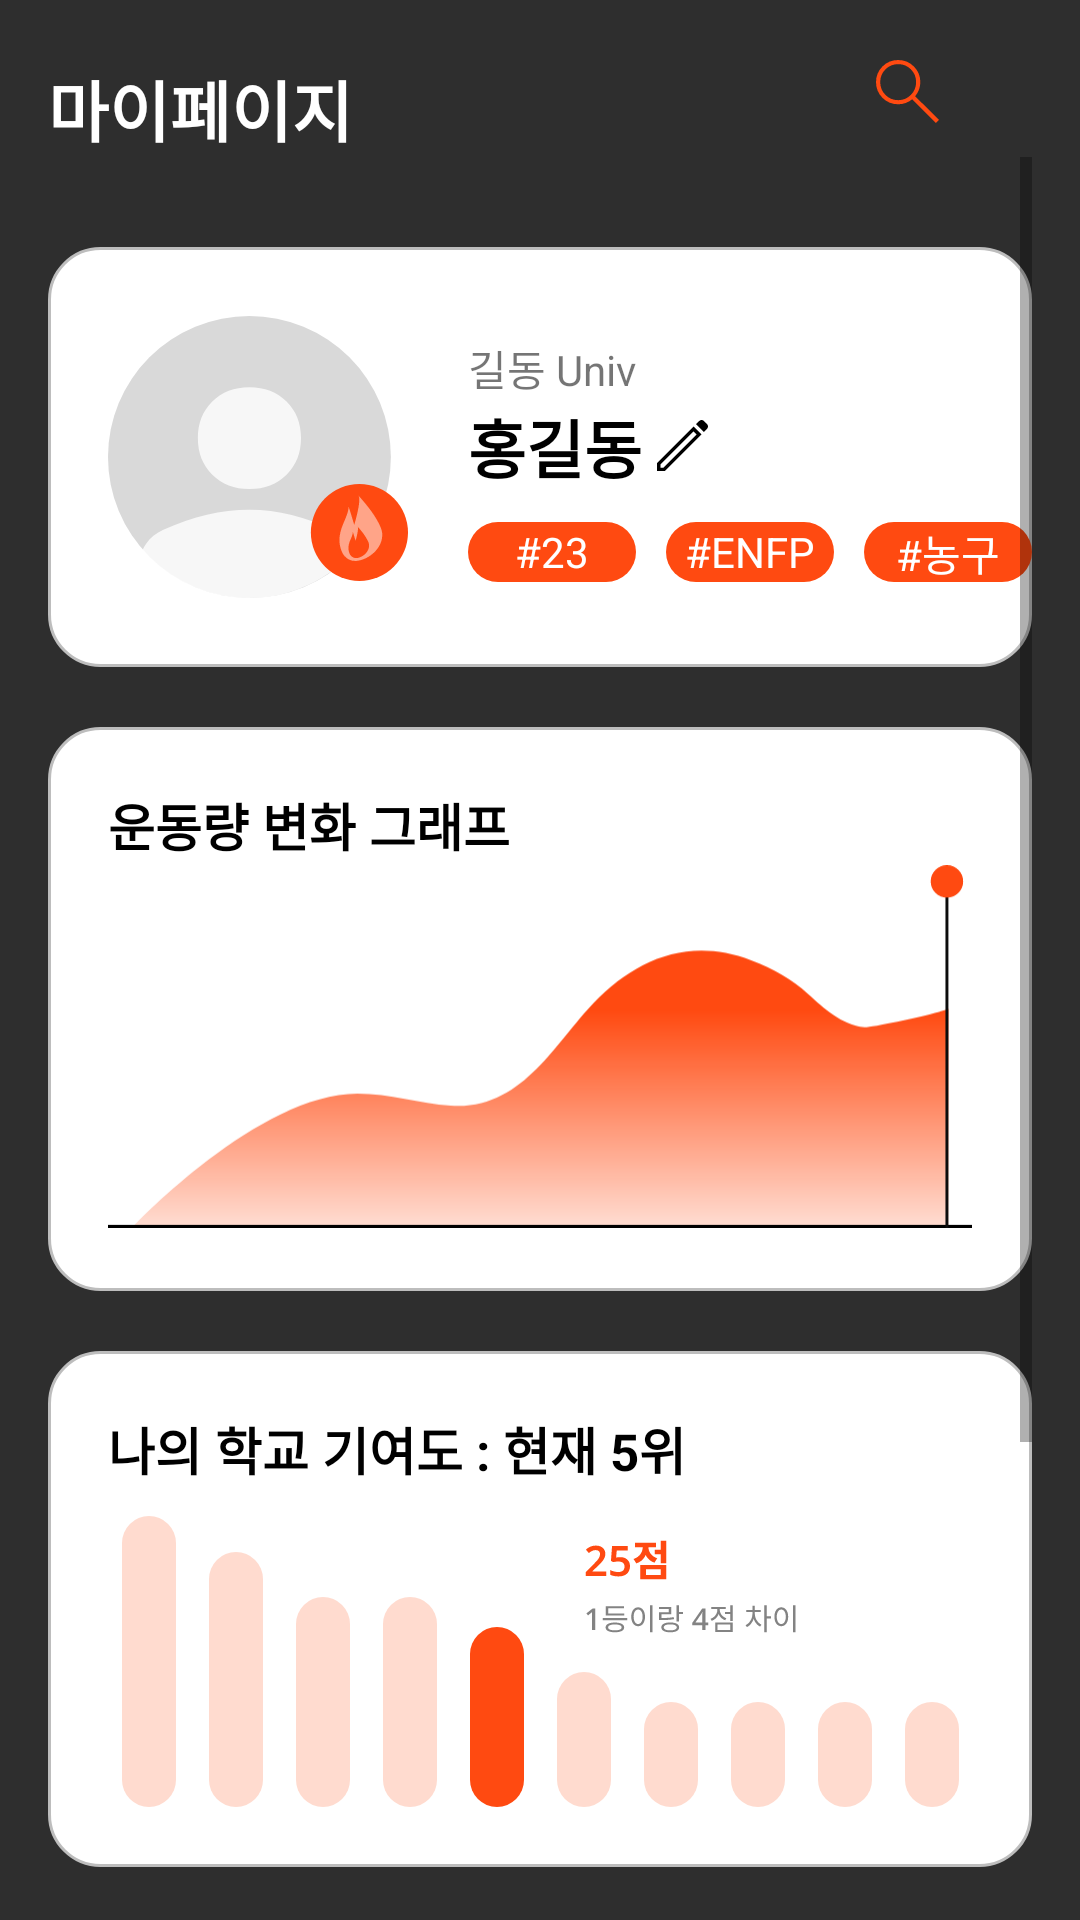

Named icons in this screenshot (1080x1920) and their centers, [x,y]:
glass: [907,91]
pencil: [682,445]
profile: [258,448]
